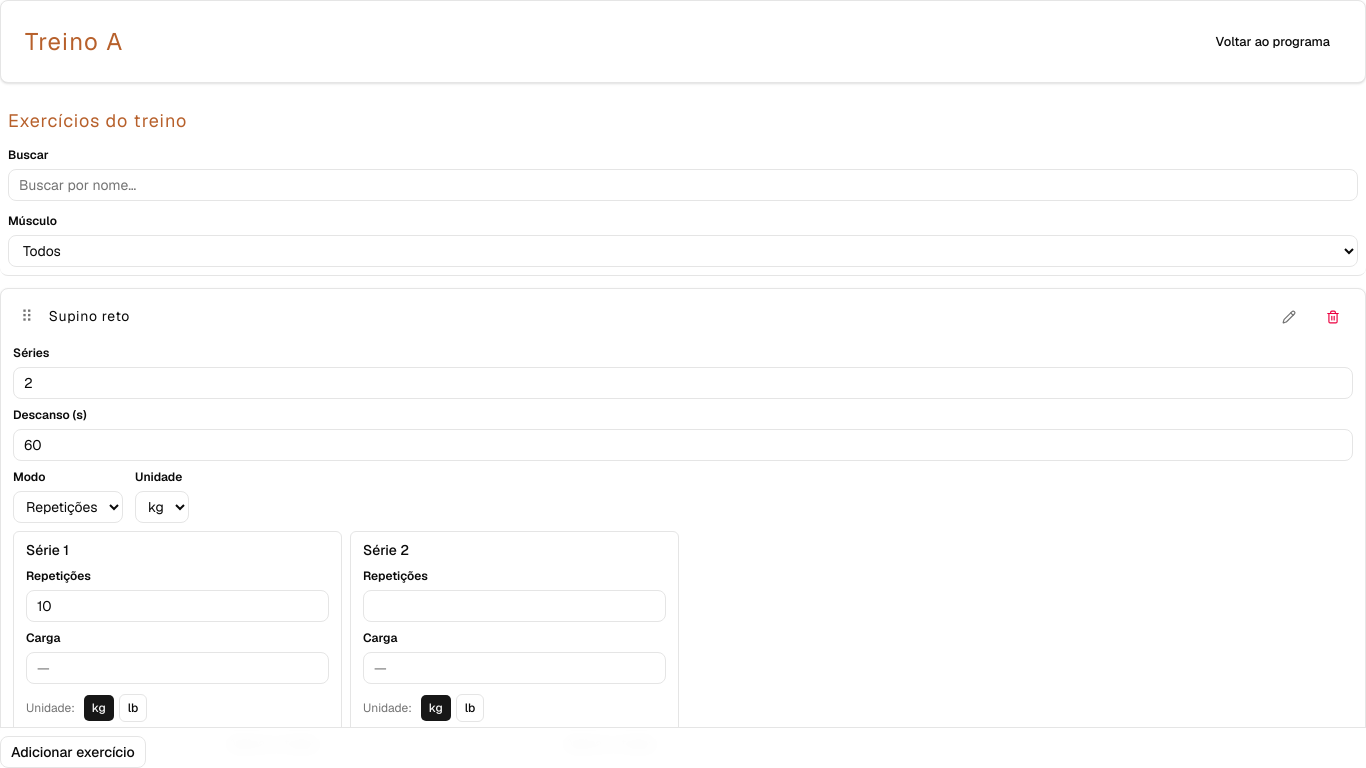
Test case: WorkoutDetailSection (TASK-002 — RED) › D14: seleção bloqueada mantém o ExercisePickerModal aberto com mensagem visível e sem retry
Click the button "Adicionar exercício". click: (73, 752)
box: [0,736,146,767]
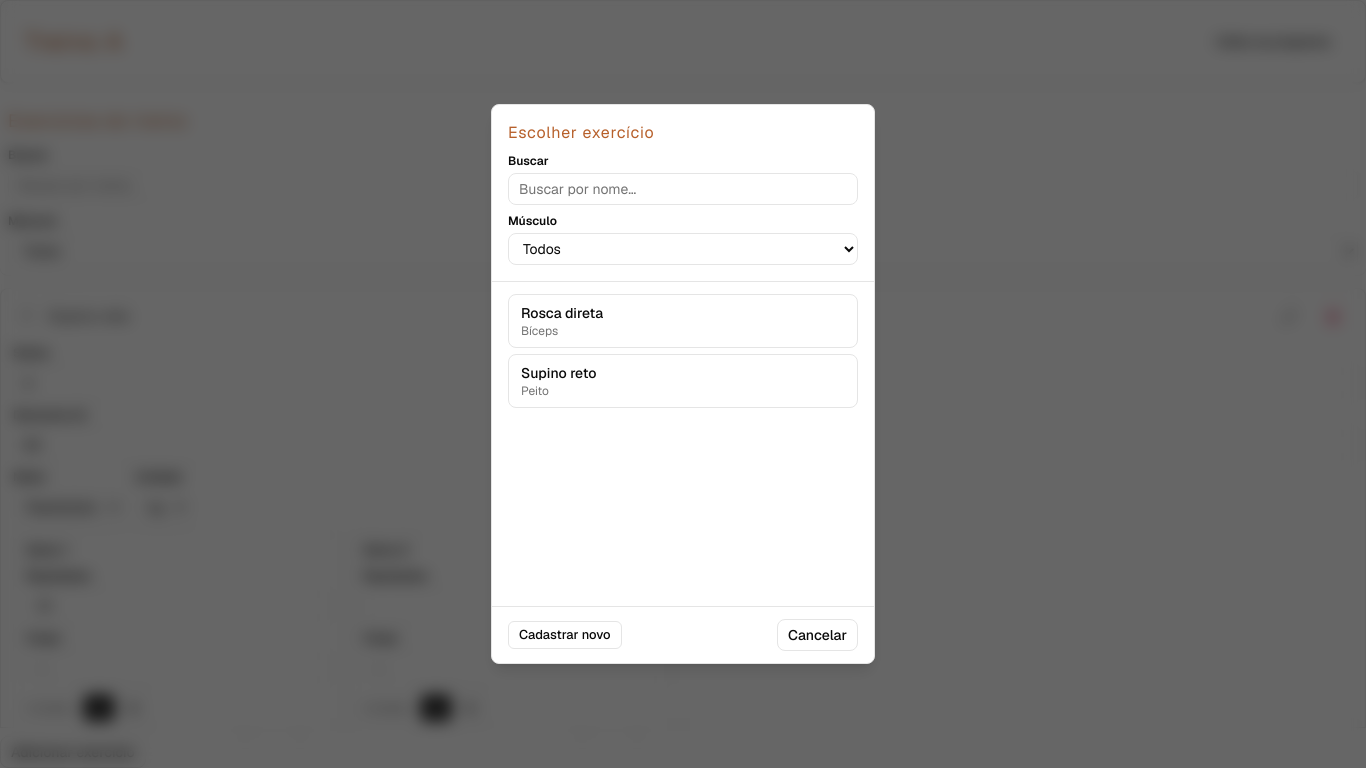
Click the button "Supino reto Peito". click: (559, 373)
box: [508,354,858,408]
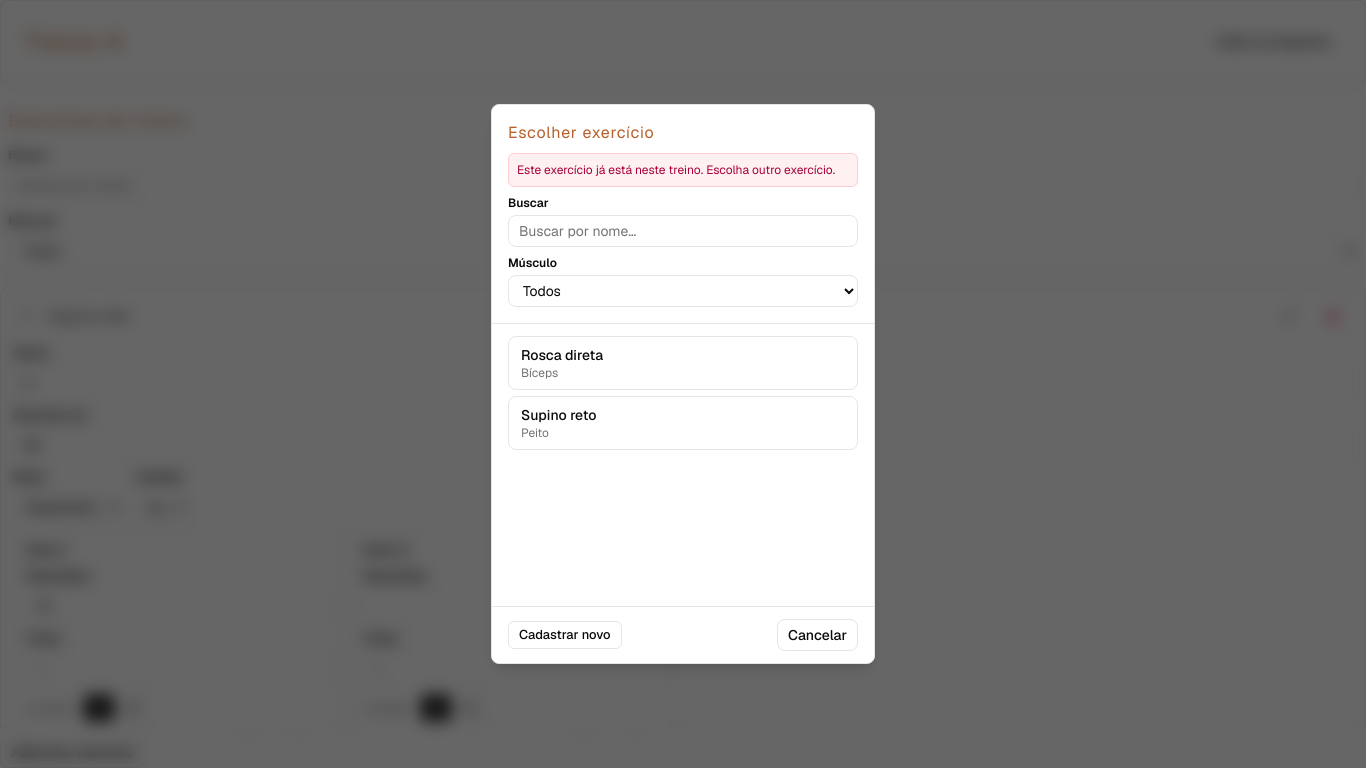
expect the element "Escolher exercício" is shown: met
expect the text "Rosca direta" is shown: met, box [521,346,603,364]
expect the text "Este exercício já está neste treino. Escolha outro exercício." is shown: met, box [508,153,858,187]
